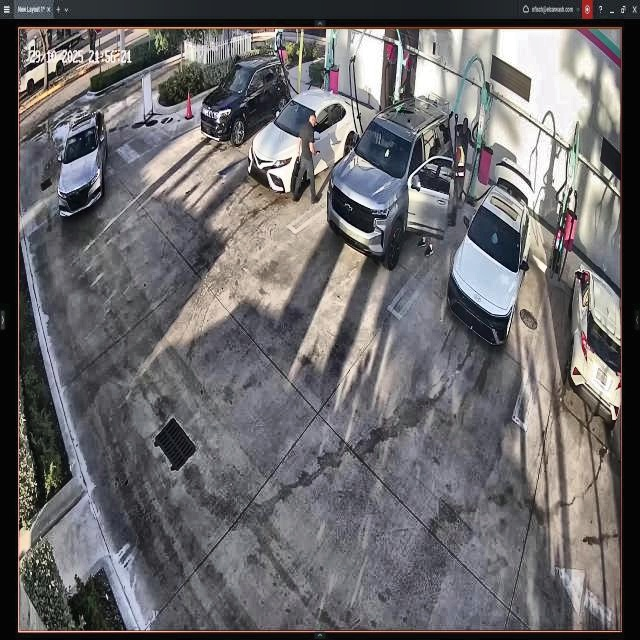Car: (328, 98, 451, 273), (451, 159, 532, 349), (248, 92, 360, 192), (206, 58, 292, 150)
